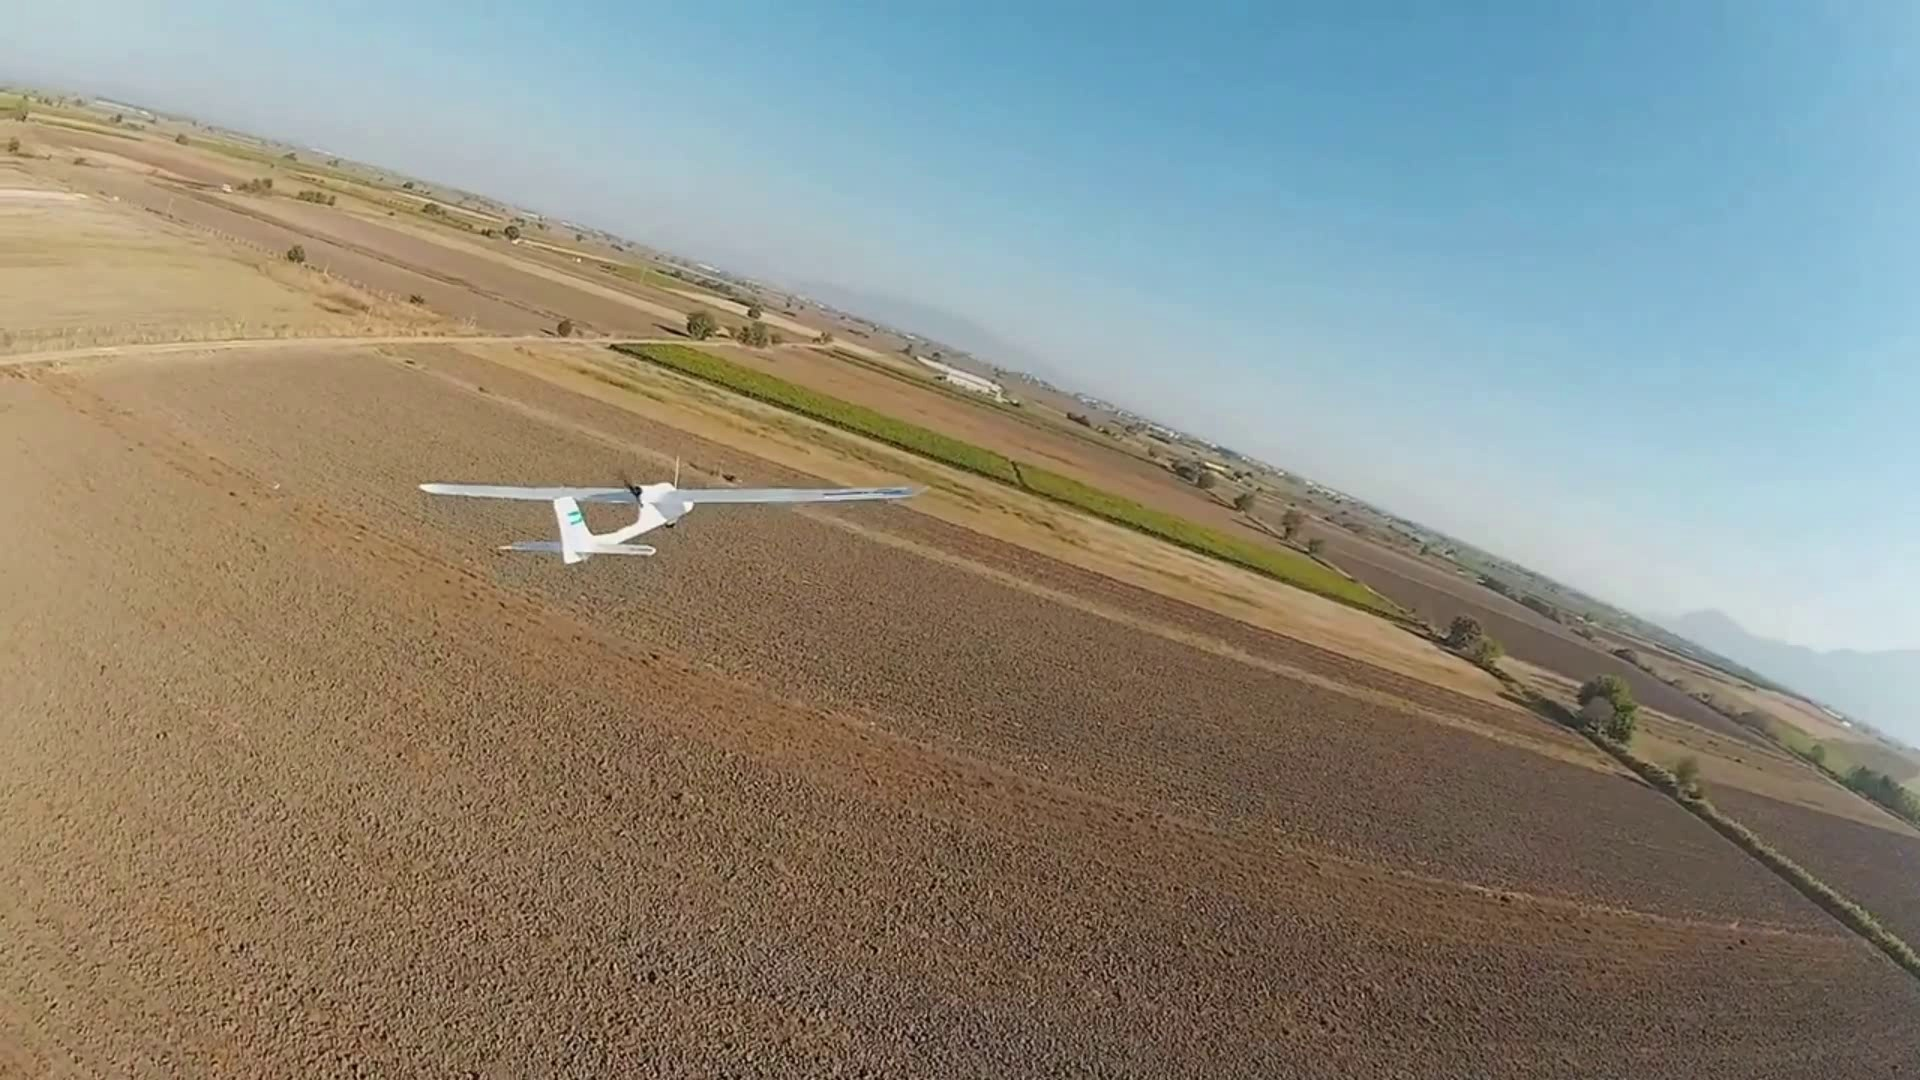airplane: (419, 478, 915, 567), (419, 480, 695, 567)
